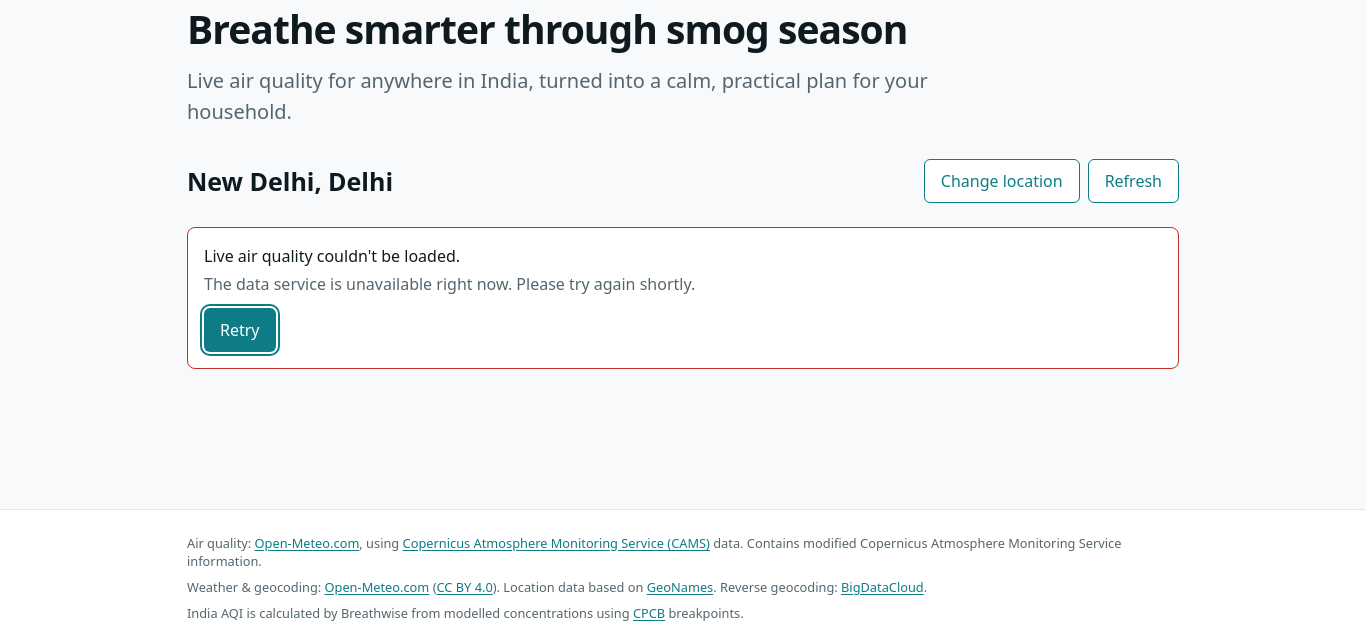
Test: Dashboard failures › shows an error card whose Retry takes focus and recovers
Click the button "Retry" at (240, 330), box [204,308,276,352]
(page scrolled)
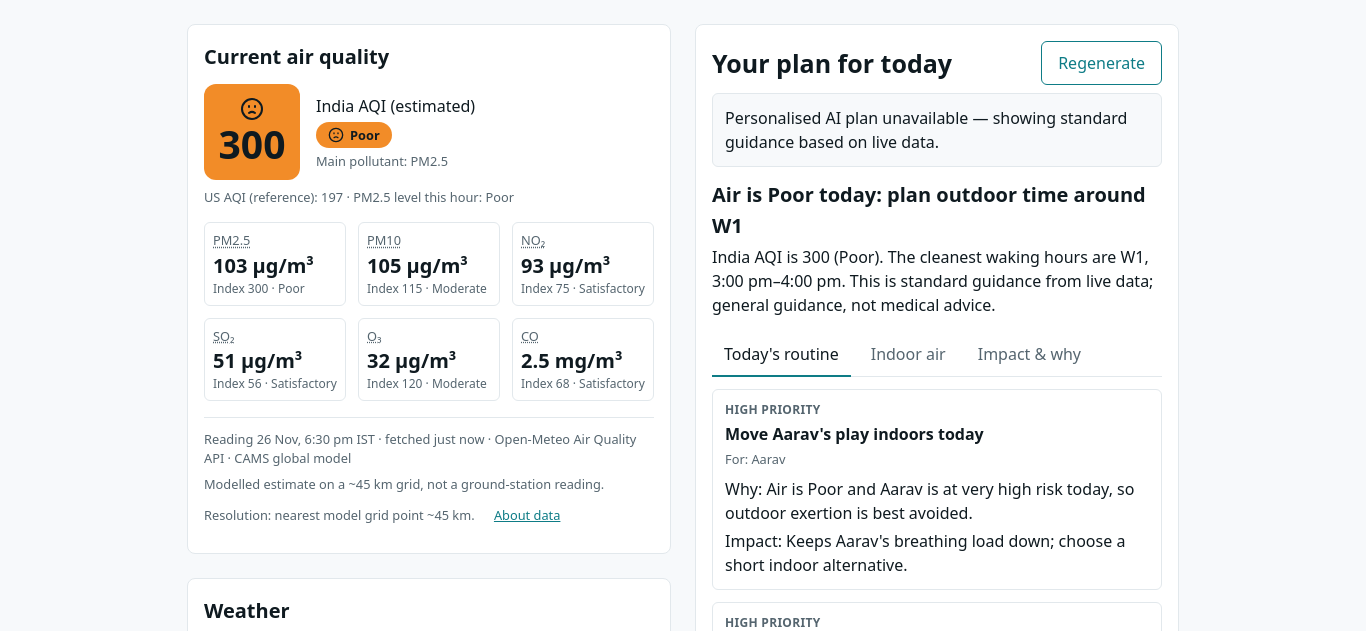
Check: the element "Current air quality" is shown, box [187,24,671,554]
